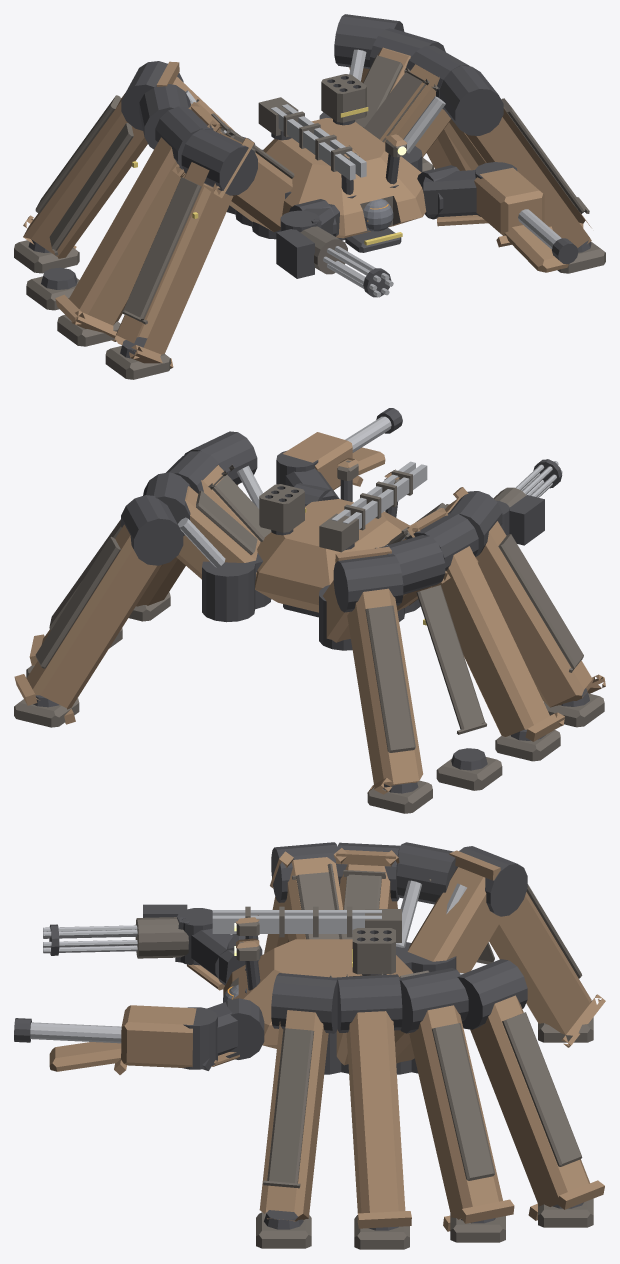
File: coconut.glb
3 renders of one model, top to bottom at view 1: azimuth 30°, elevation 25°; view 2: azimuth 150°, elevation 25°; view 3: azimuth 270°, elevation 25°, orthographic. The views are drawn at different scales.
Parts seen in each view (by area): view 1: tibia1-1, carapace, tibia0-1, tibia3-1, tibia01, tibia0-1_top, pincer1_palm, knee0-1, knee01, femur0-1, upper1, femur11 (+35 smaller); view 2: tibia1-1, tibia31, carapace, tibia0-1, tibia3-1, tibia3-1_top, tibia2-1_top, knee31, coxa31, knee3-1, tibia0-1_top, tibia31_top (+33 smaller); view 3: tibia11, tibia31, tibia3-1, tibia21, femur3-1, tibia01, tibia01_top, carapace, tibia21_top, pincer1_palm, tibia31_top, knee01 (+35 smaller).
Boxes of the visible parts, box(x1,y1,x2,y2) form: tibia1-1: box(55, 137, 185, 341); carapace: box(263, 118, 426, 238); tibia0-1: box(115, 162, 233, 368); tibia3-1: box(23, 93, 147, 258); tibia01: box(464, 107, 591, 247); tibia0-1_top: box(122, 177, 201, 324); pincer1_palm: box(474, 167, 552, 247); knee0-1: box(181, 129, 257, 195); knee01: box(439, 65, 503, 135); femur0-1: box(203, 133, 292, 231); upper1: box(423, 170, 477, 217); femur11: box(380, 64, 450, 157); tibia1-1: box(431, 546, 564, 741); tibia31: box(14, 524, 161, 724); carapace: box(255, 499, 409, 612); tibia0-1: box(475, 521, 605, 707); tibia3-1: box(347, 588, 423, 794); tibia3-1_top: box(365, 605, 415, 752); tibia2-1_top: box(416, 585, 486, 734); knee31: box(121, 495, 183, 565); coxa31: box(202, 561, 255, 622); knee3-1: box(333, 554, 403, 612); tibia0-1_top: box(498, 534, 583, 672); tibia31_top: box(35, 536, 120, 668); tibia11: box(346, 1011, 411, 1228); tibia31: box(470, 995, 604, 1220); tibia3-1: box(489, 892, 605, 1047); tibia21: box(409, 1005, 514, 1231); femur3-1: box(407, 850, 503, 973); tibia01: box(259, 1010, 328, 1221); tibia01_top: box(263, 1028, 314, 1188); carapace: box(223, 939, 413, 1048); tibia21_top: box(432, 1023, 494, 1180); pincer1_palm: box(114, 1005, 196, 1074); tibia31_top: box(502, 1012, 582, 1166); knee01: box(271, 973, 337, 1033).
Bounding box in the file's own units: 39.49 × 15.76 × 38.46.
